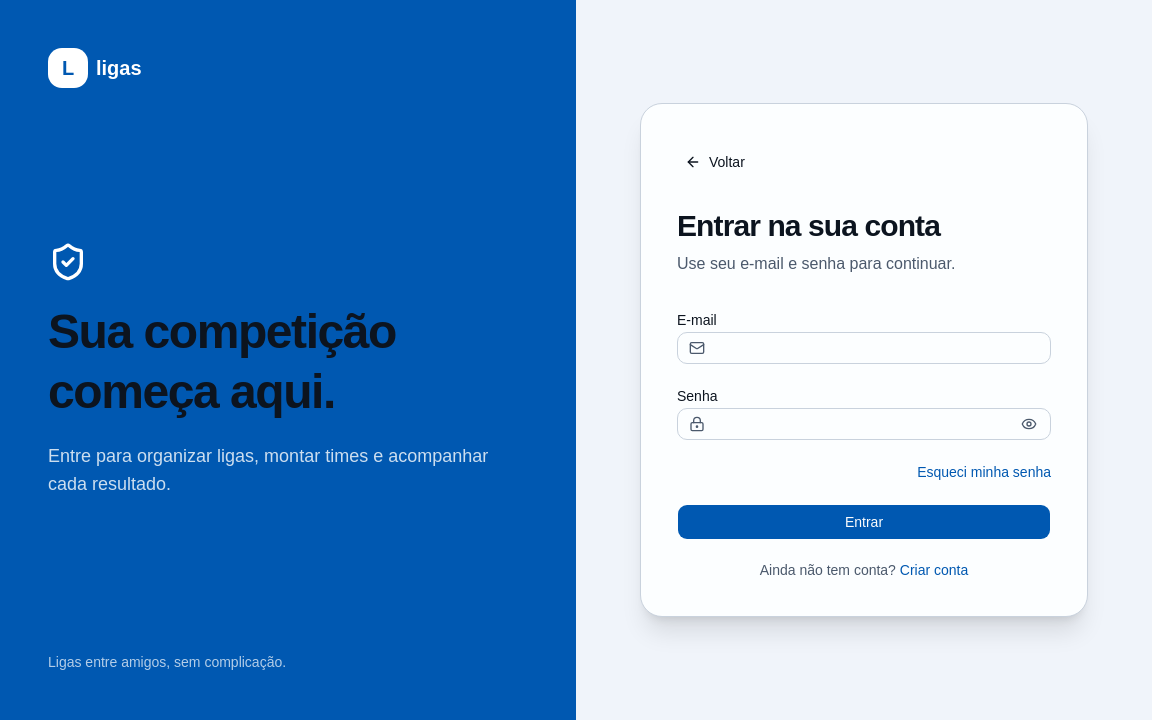
Test case: authentication pages › keeps login intent clear, supports password visibility and a safe returnTo
Expected: the heading "Entrar na sua conta" is shown, [677, 209, 940, 242]
Step 1. Click the button named "Mostrar senha" → (1029, 424), box [1011, 406, 1047, 442]
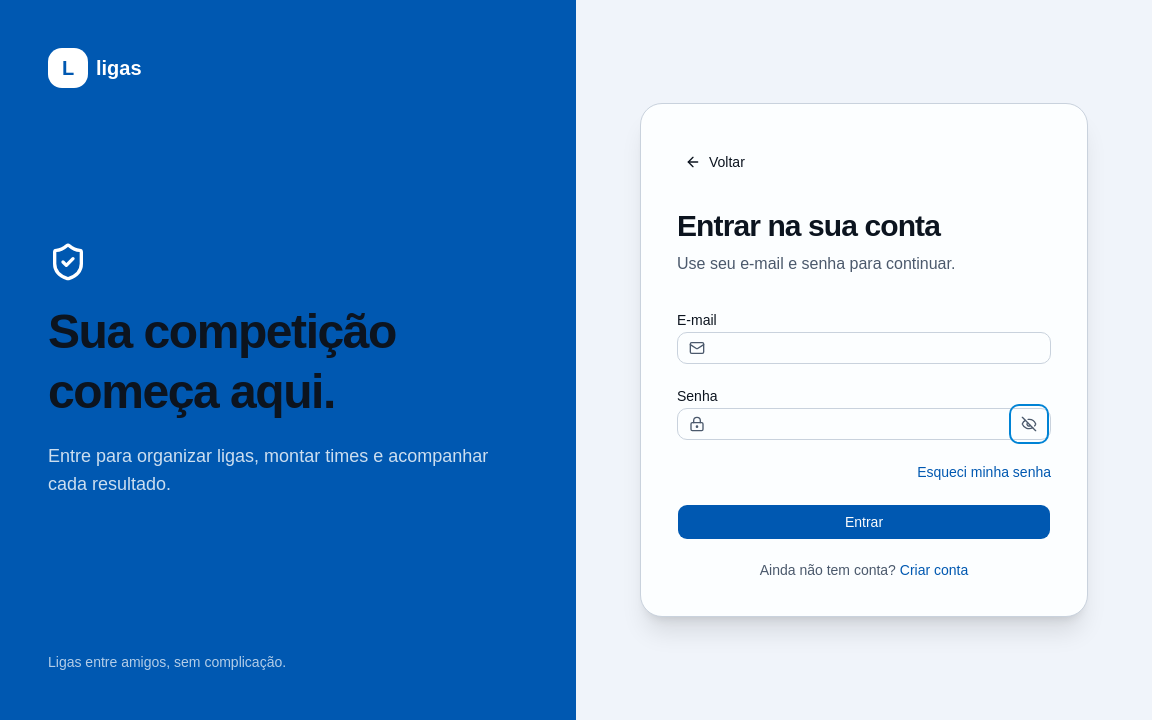
Step 2. Type "player@test.local" into the field labelled "E-mail" → (864, 348), box [677, 332, 1051, 364]
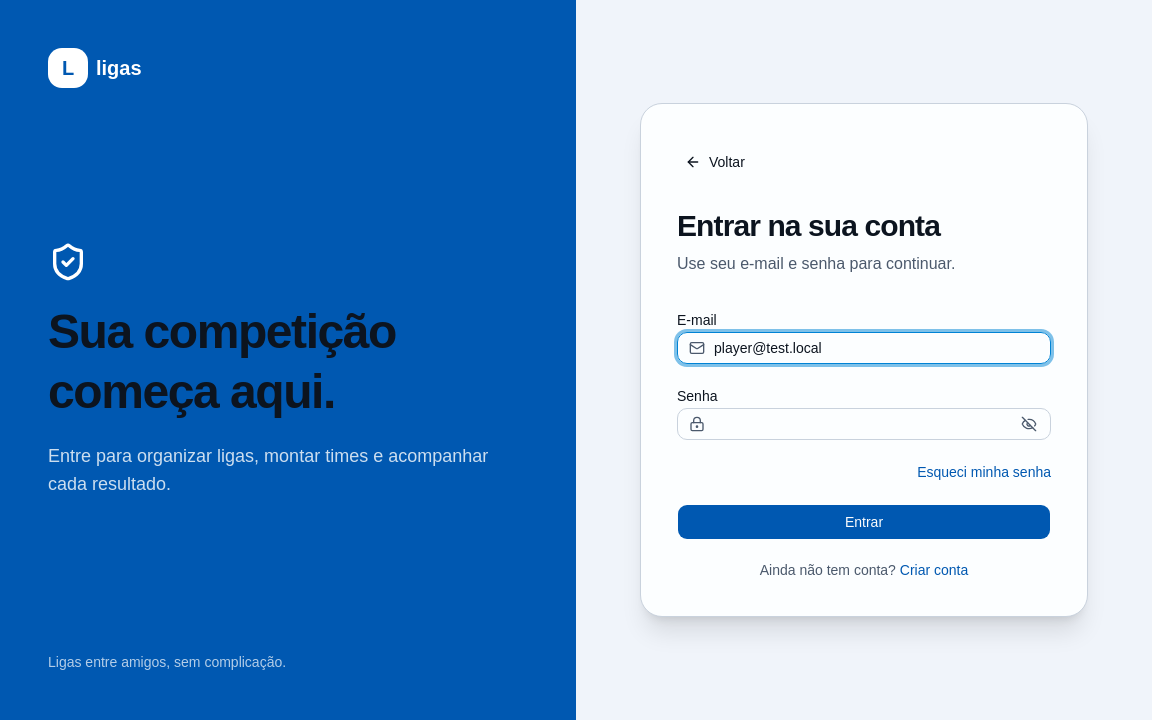
Step 3. Type "correct horse battery staple" into the field labelled "Senha" → (864, 424), box [677, 408, 1051, 440]
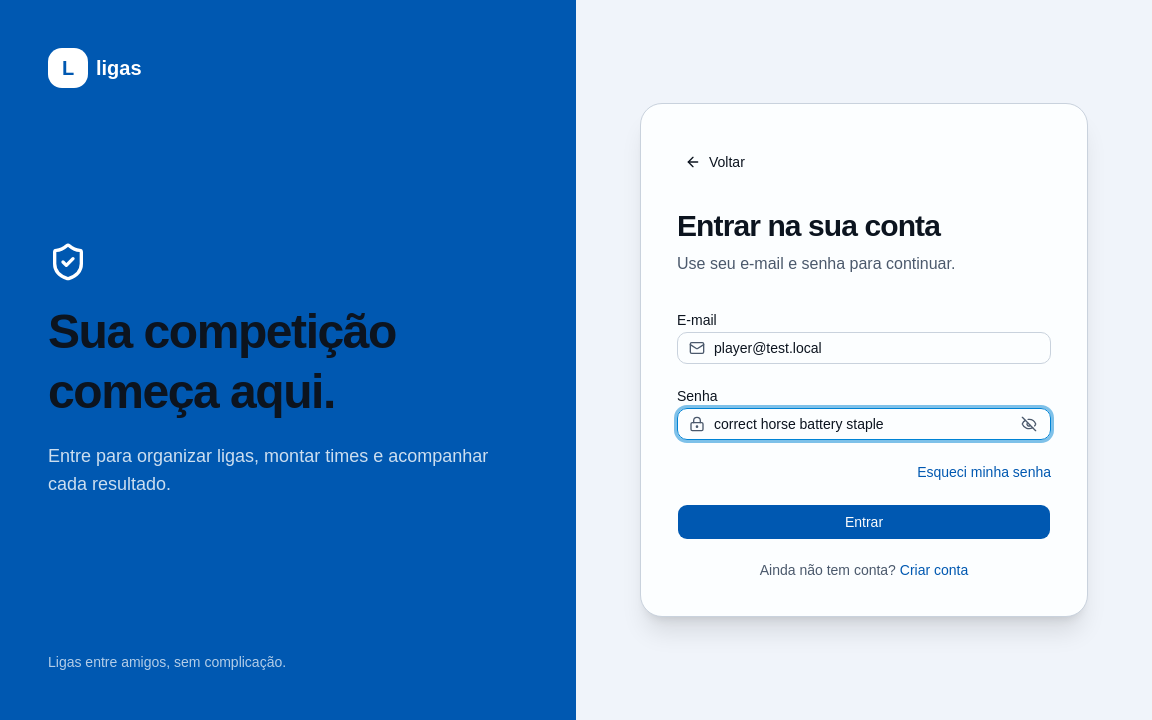
Step 4. Click the button "Entrar" → (864, 522), box [677, 504, 1051, 540]
(page scrolled)
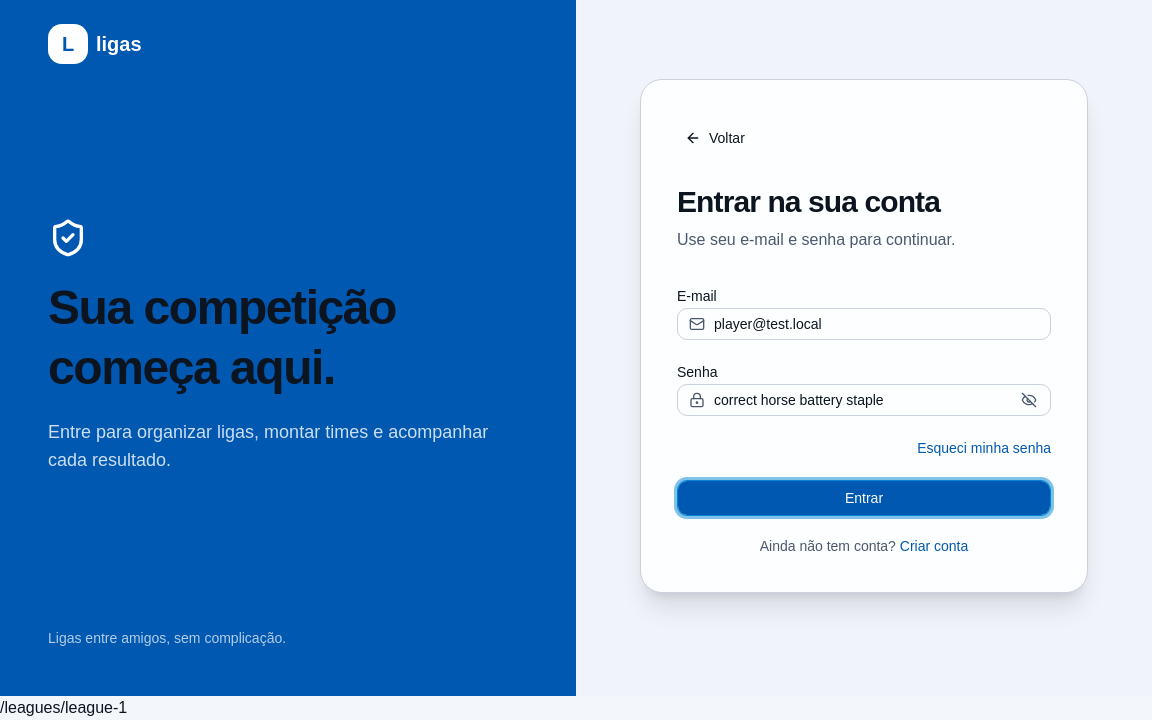
Expected: the text named "location" reads "/leagues/league-1", [0, 699, 127, 716]
